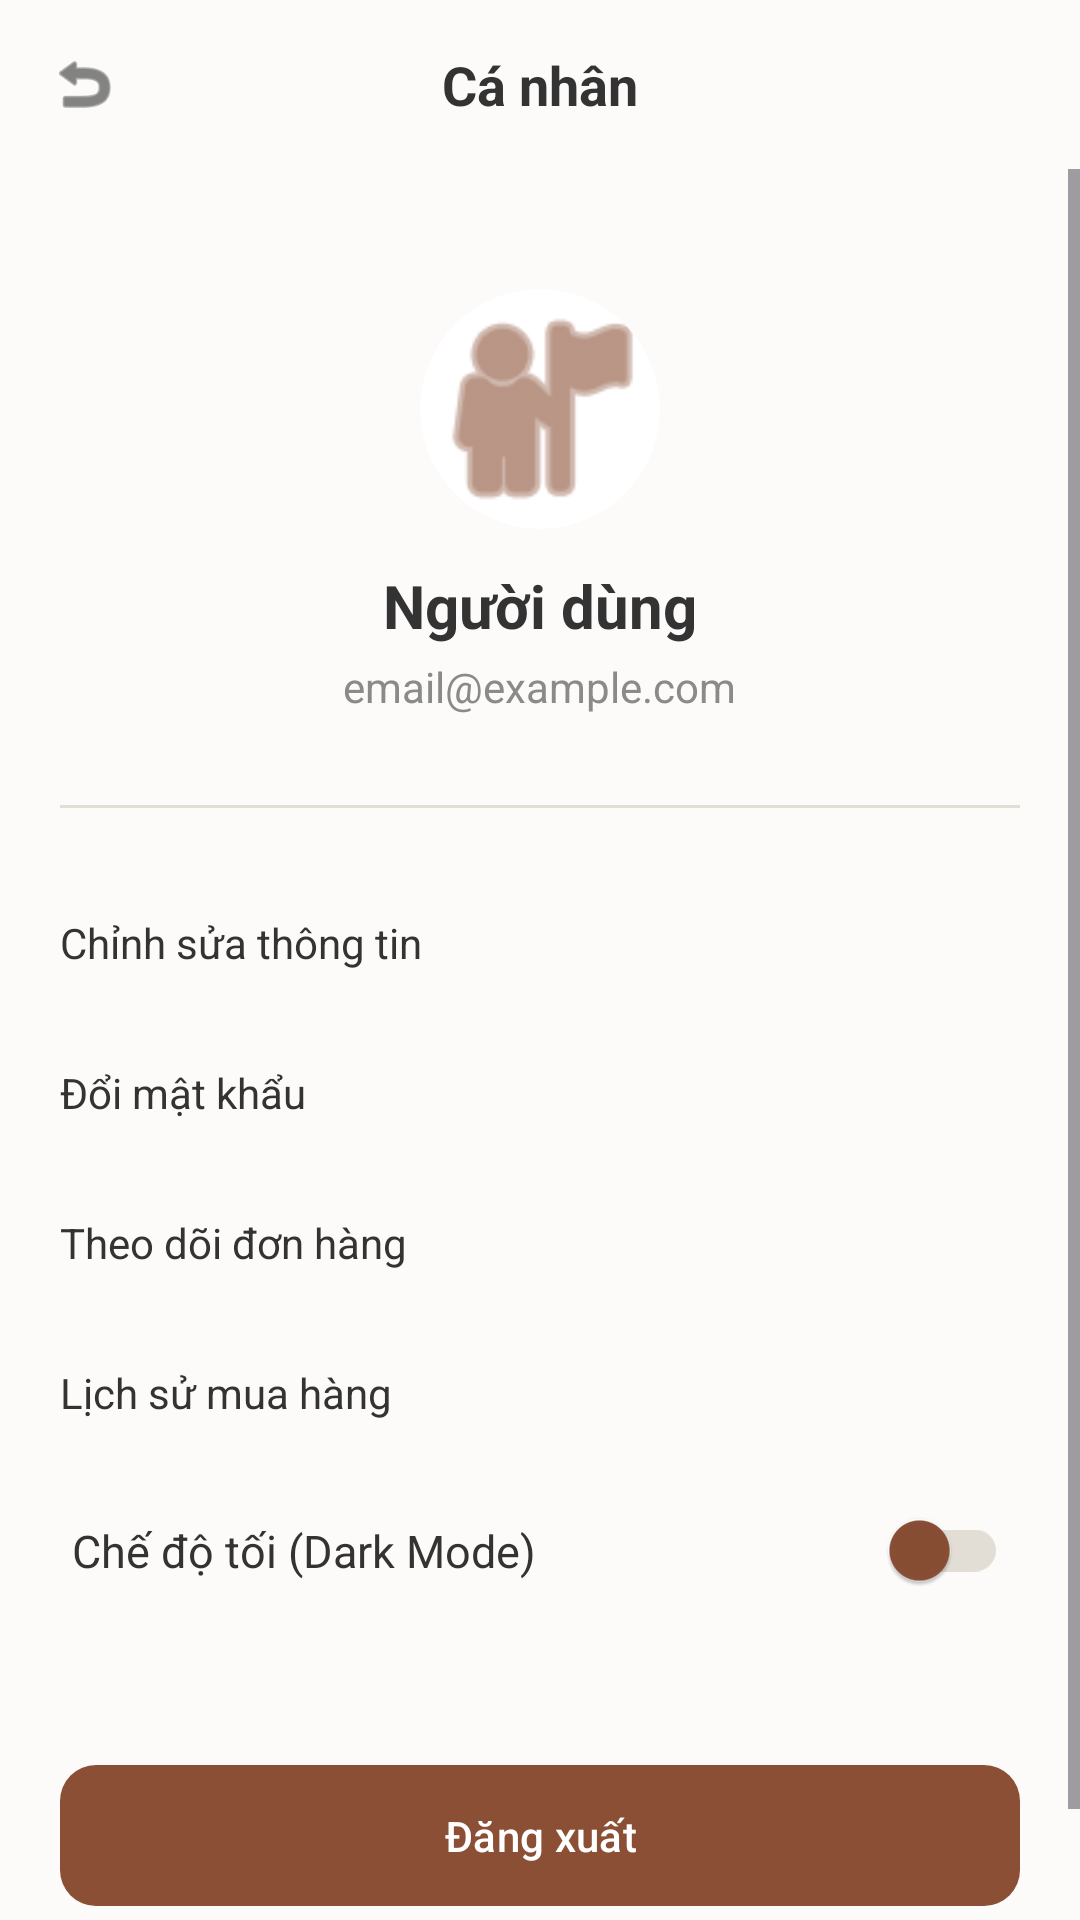

Named icons in this screenshot (1080w x 1920h) and their centers, (x,y):
myplaces: (543,409)
revert: (85,84)
